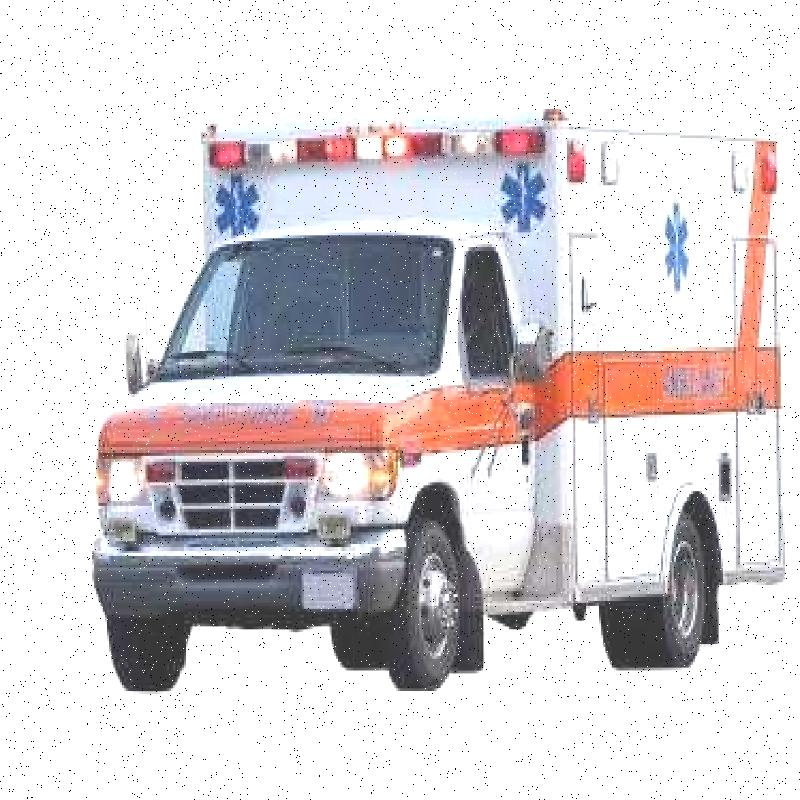AmbulanceSiren: (198, 104, 543, 208)
